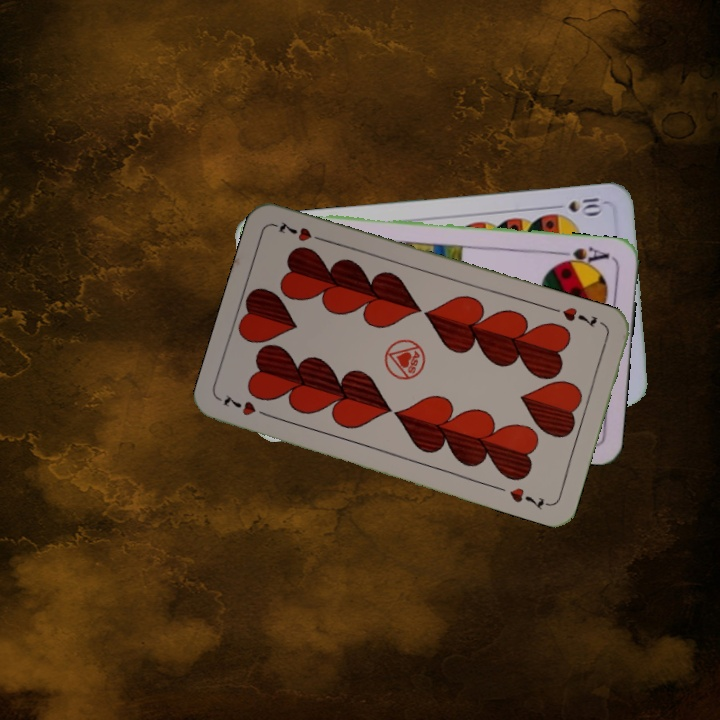H7: (219, 392, 274, 421), (558, 303, 600, 331)
S10: (564, 194, 607, 216)
SA: (553, 243, 612, 269)
